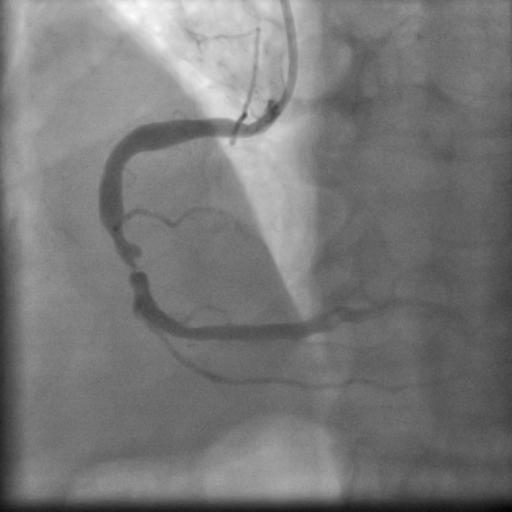Stenosis: (118, 250, 154, 280)
